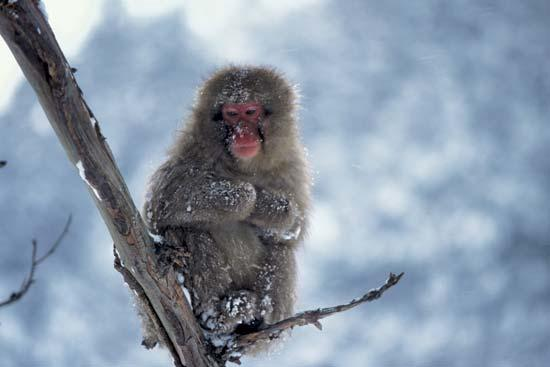monkey: (152, 65, 316, 367)
